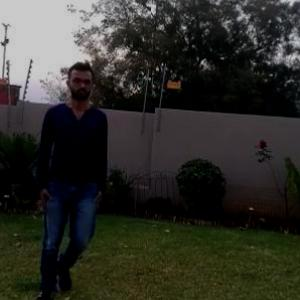follow: (39, 63, 112, 291)
